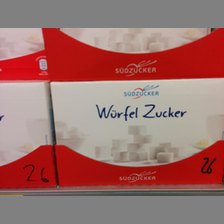tomato_sauce: (49, 81, 223, 190)
